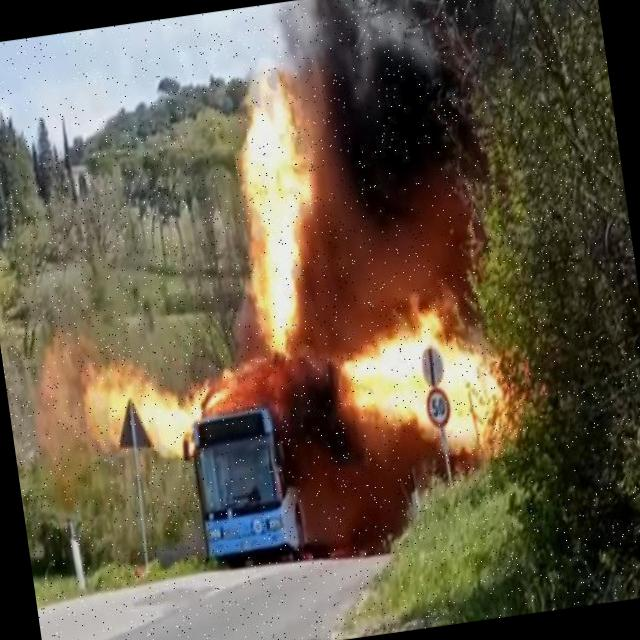Fire: (226, 53, 330, 354), (342, 312, 526, 464), (62, 358, 217, 470)
Smoke: (288, 12, 488, 306), (284, 452, 348, 554)
